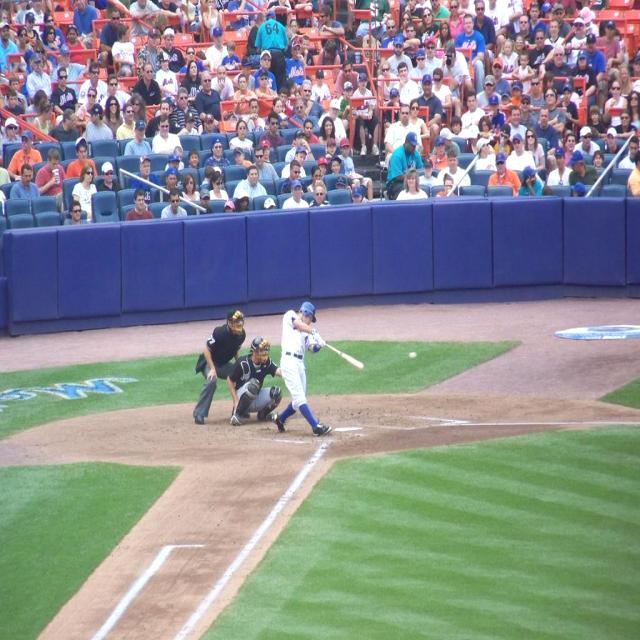ball: (408, 351, 418, 359)
bat: (323, 342, 365, 370)
